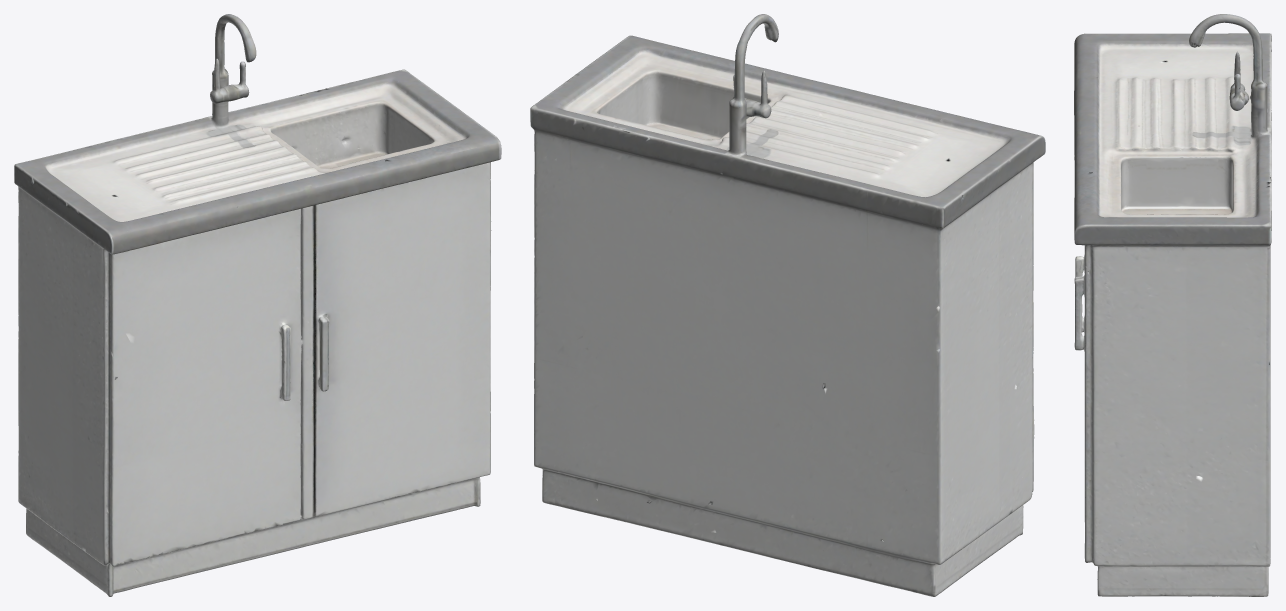
The model's file is Sink-withCabinet.glb.
The picture shows the model from 3 angles, left to right: view 1: azimuth 30°, elevation 25°; view 2: azimuth 150°, elevation 25°; view 3: azimuth 270°, elevation 25°; orthographic projection. The views are drawn at different scales.
Bounding box in the file's own units: 1.68 × 2 × 0.7282.
Materials: 1 (1 with a texture image).
